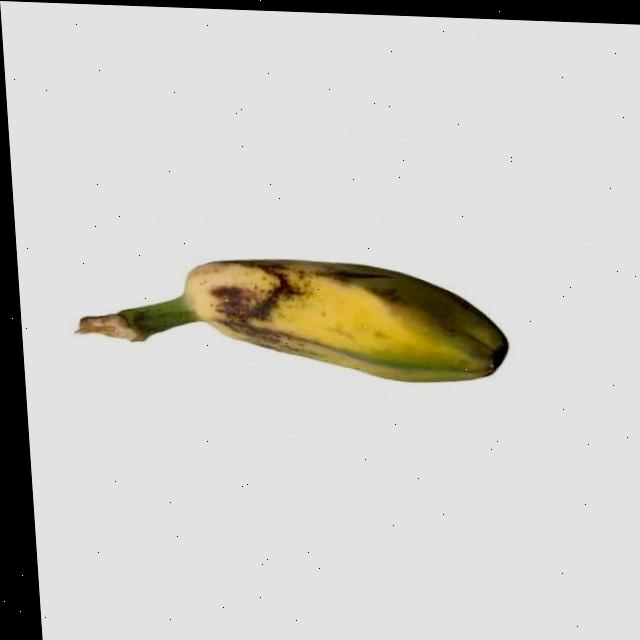banana: (69, 249, 513, 389)
